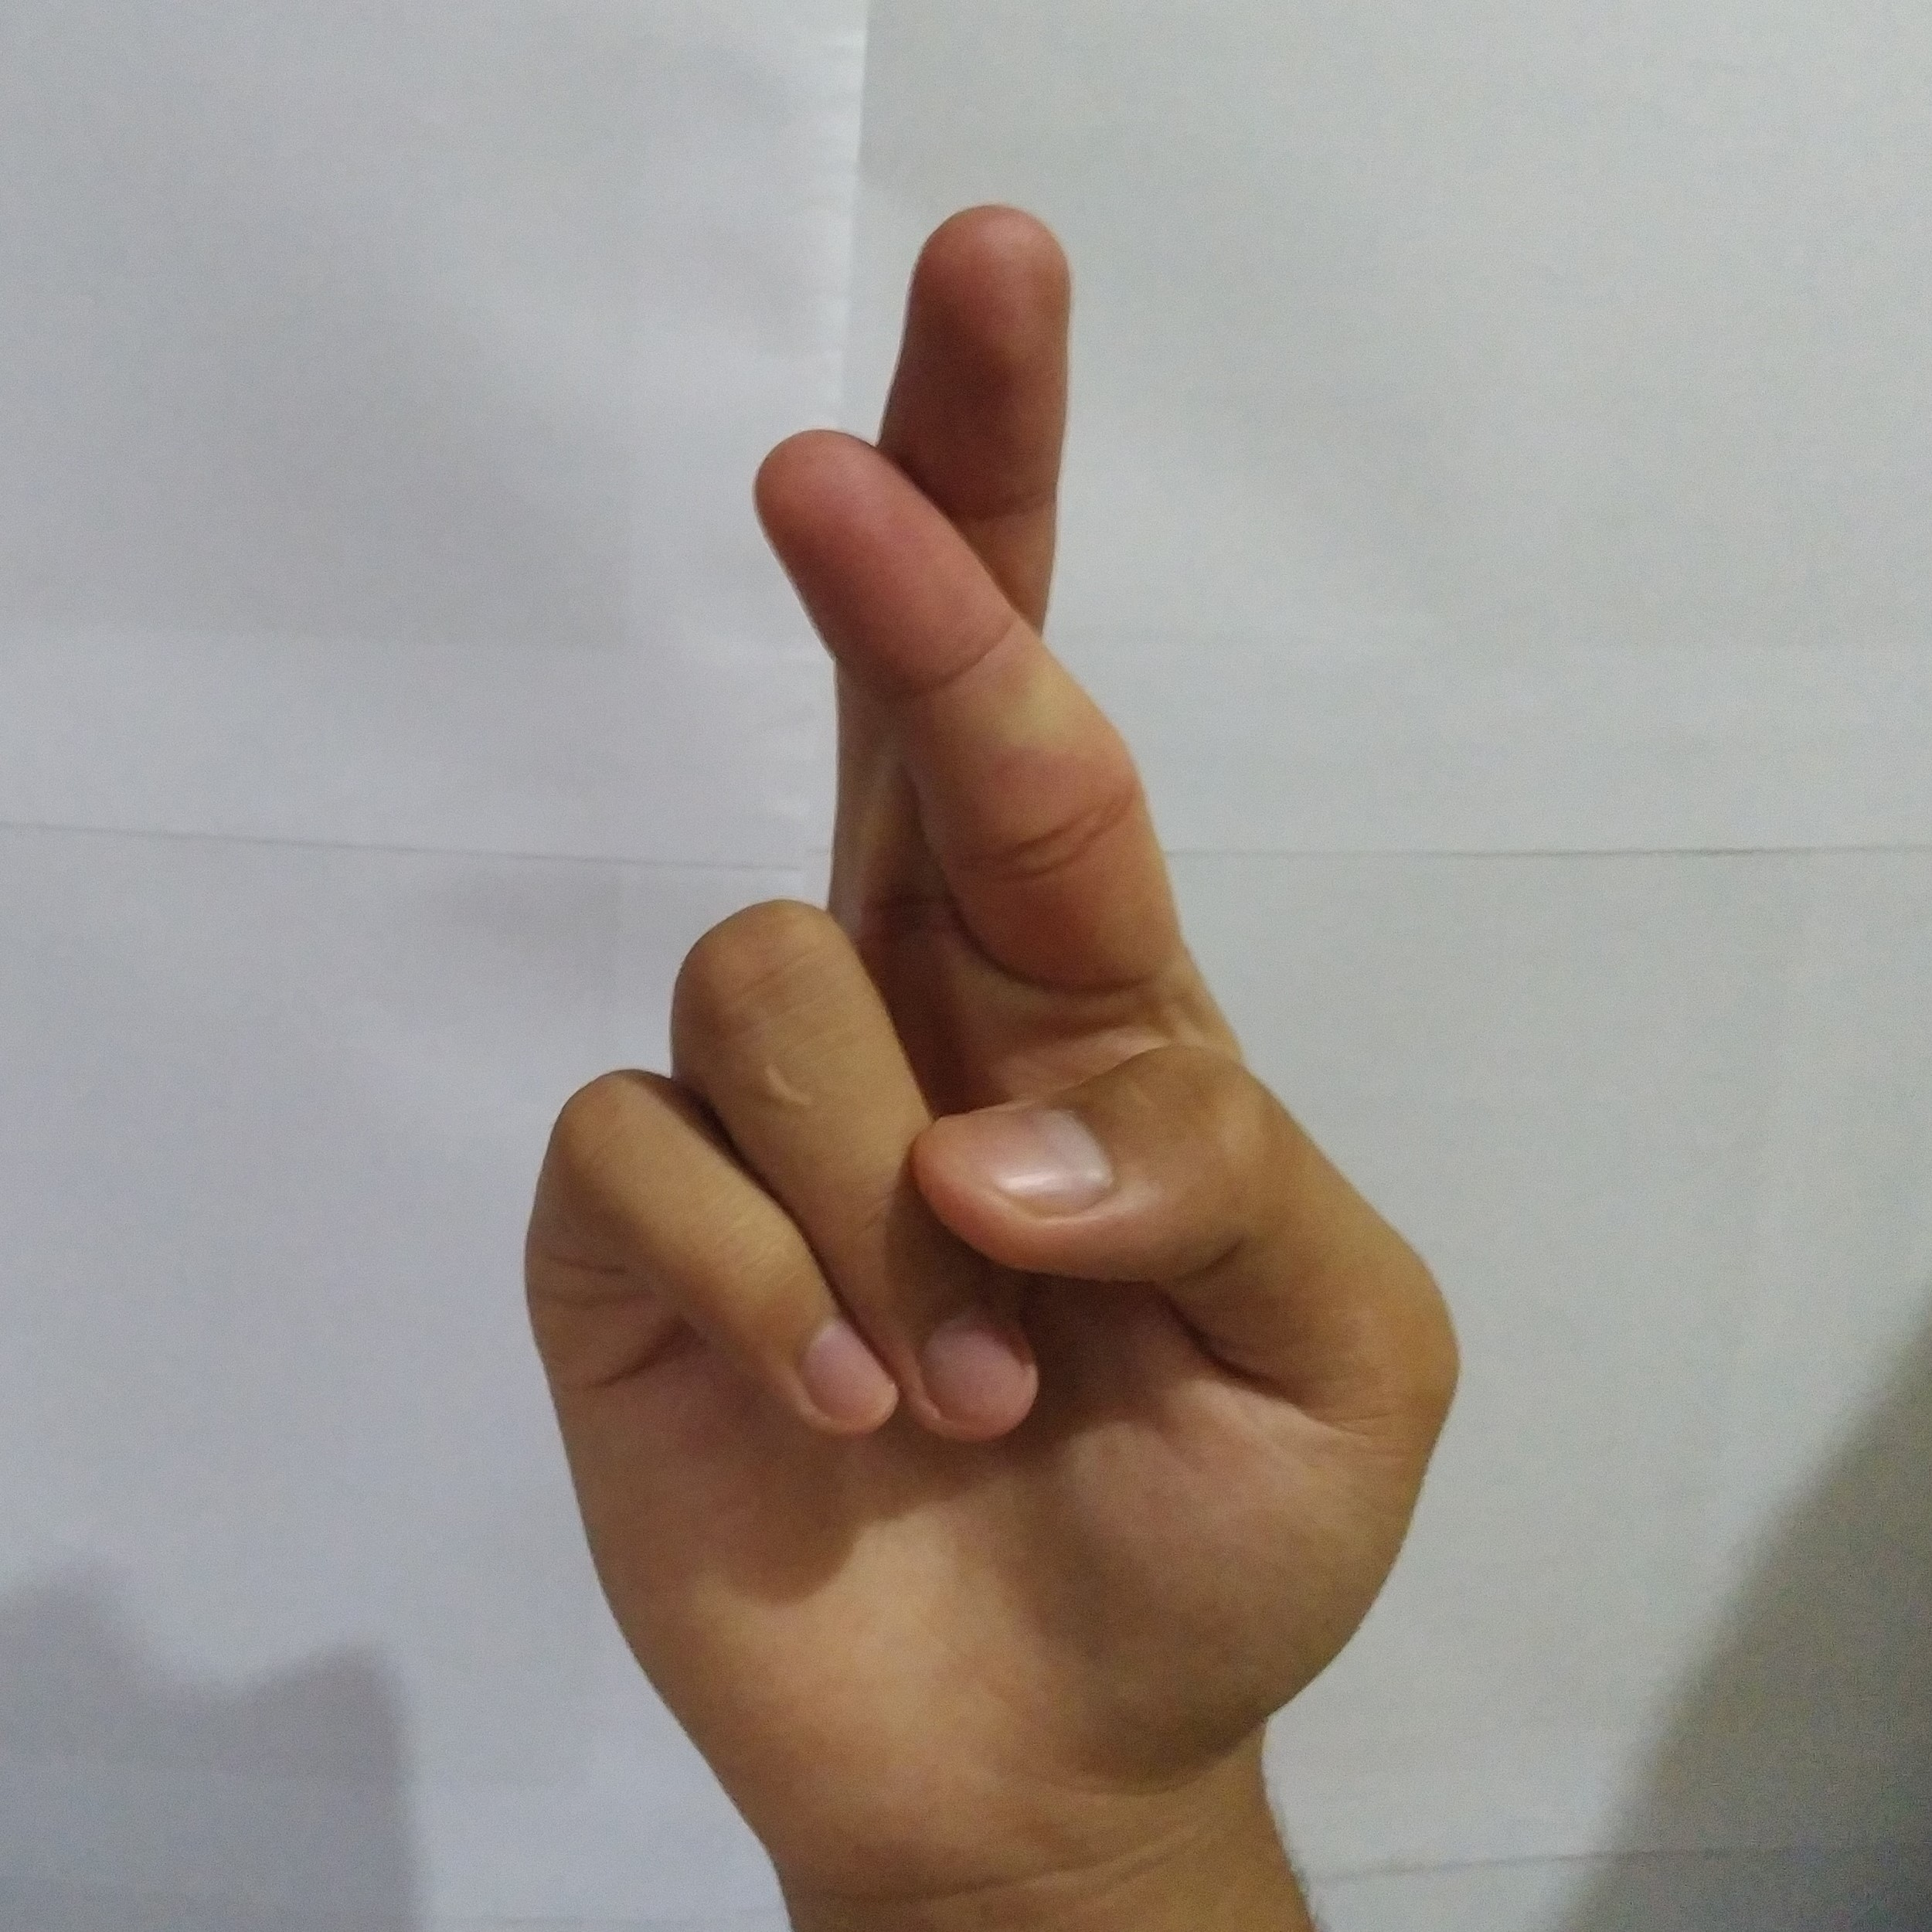R: (492, 173, 1490, 1828)
